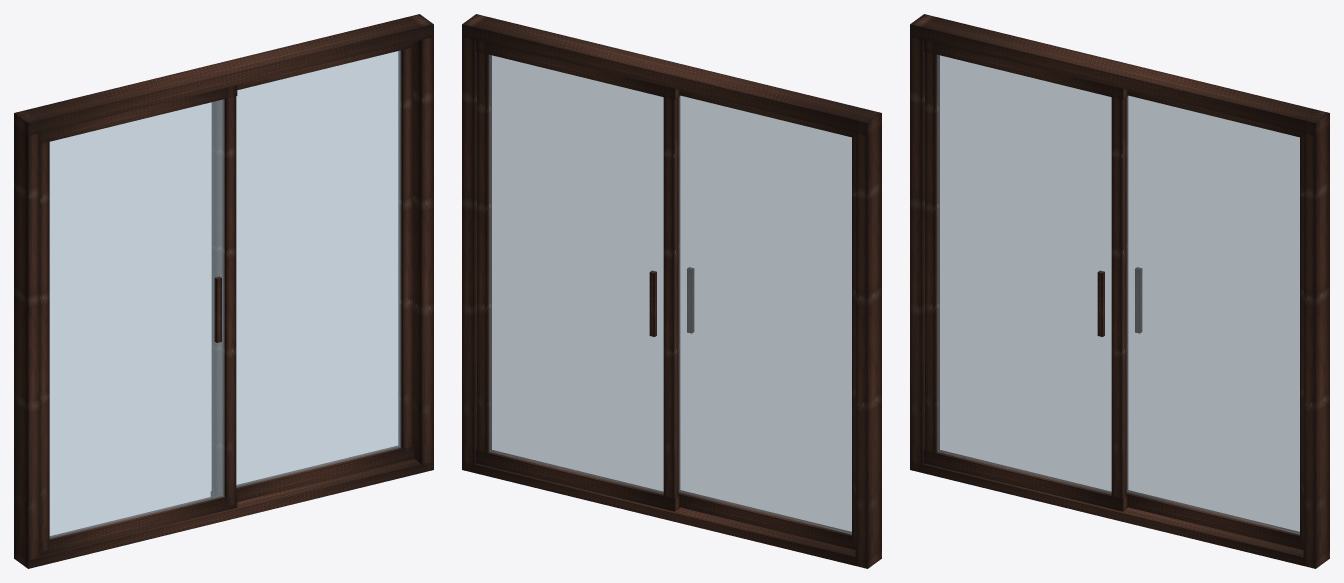
The model's file is Door_SlidingGlass.fbx.
The picture shows the model from 3 angles, left to right: view 1: azimuth 30°, elevation 25°; view 2: azimuth 150°, elevation 25°; view 3: azimuth 330°, elevation 25°; orthographic projection.
Parts seen in each view (by area): view 1: Door_SlidingGlass; view 2: Door_SlidingGlass; view 3: Door_SlidingGlass.
Boxes of the visible parts, <box> form: Door_SlidingGlass: <box>14,14,433,568</box>; Door_SlidingGlass: <box>462,14,881,568</box>; Door_SlidingGlass: <box>910,14,1329,568</box>.
Size of the model in its own units: 2 by 2.1 by 0.13.
